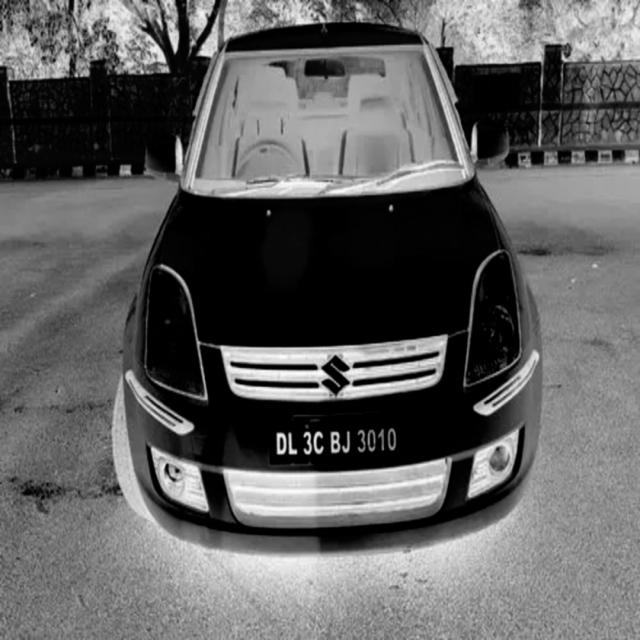Non_registered: (267, 415, 403, 462)
